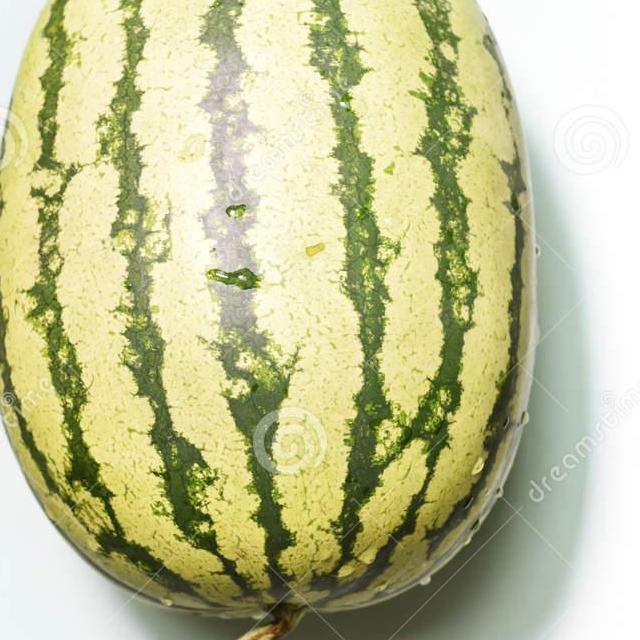watermelon: (0, 0, 574, 640)
